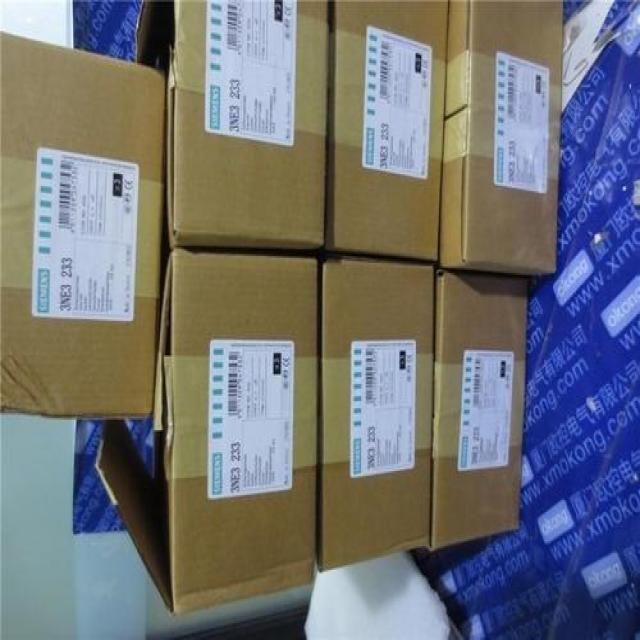box: (94, 251, 320, 618), (0, 29, 169, 423), (130, 0, 326, 259), (316, 251, 444, 577), (438, 0, 572, 270), (322, 0, 450, 263), (426, 268, 538, 556)
